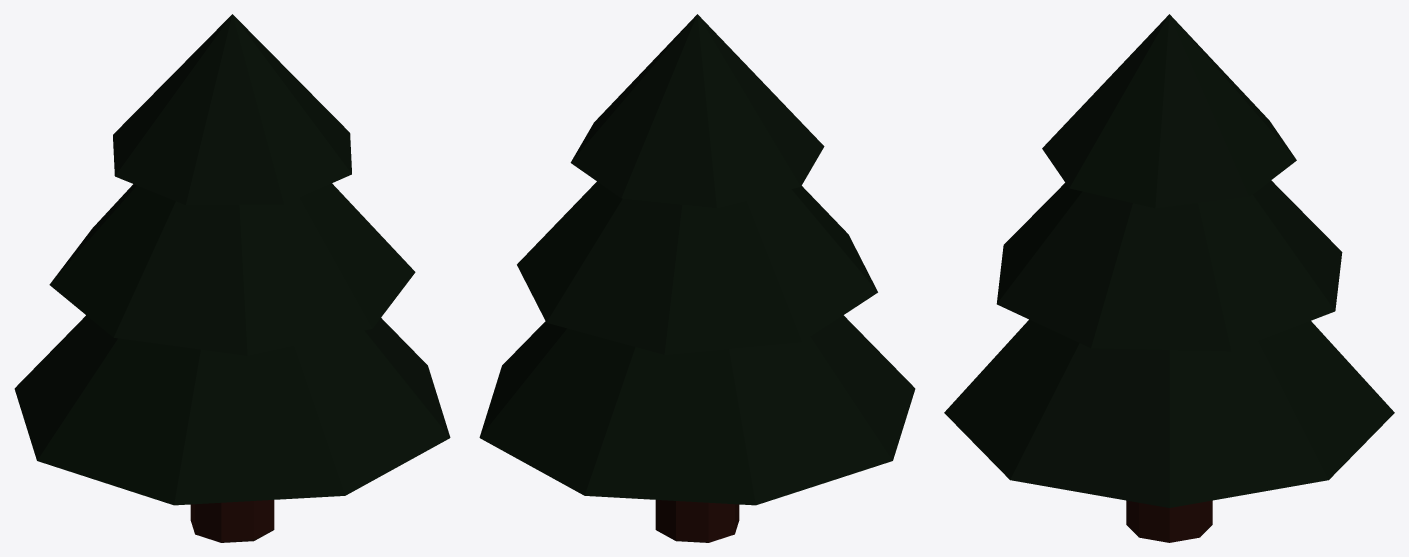
Rendered from Tree1.fbx.
3 views of the same model, side by side, from view 1: azimuth 30°, elevation 25°; view 2: azimuth 150°, elevation 25°; view 3: azimuth 270°, elevation 25° (orthographic).
Visible parts, largest first — view 1: target; view 2: target; view 3: target.
Part boxes in pixels (box(x1,y1,x2,y2)): target: box(14, 14, 450, 542); target: box(479, 14, 915, 542); target: box(944, 14, 1394, 542).
Bounding box in the file's own units: 6.32 × 7.9 × 6.32.
Materials: 1 (1 with a texture image).
